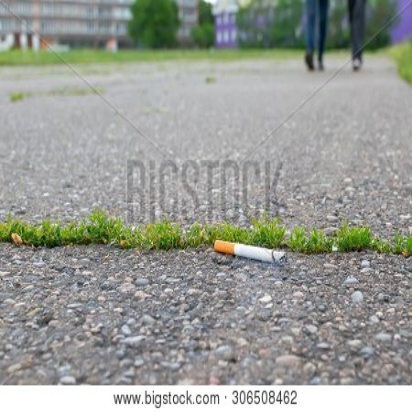cigarette: (205, 235, 294, 273)
